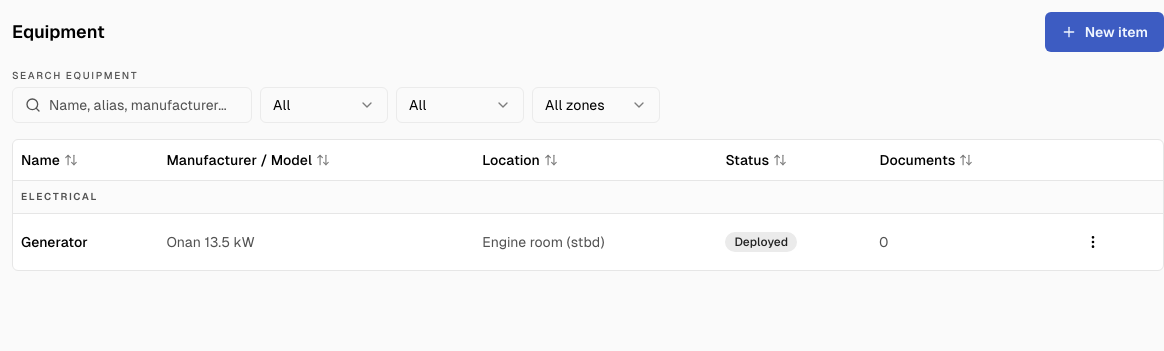
Test: EquipmentIndex › opens the editor from the row's own action menu, without double-firing the row click
Expected: the text "Generator" is shown, x1=21 y1=234 x2=88 y2=250
Click the button named "Actions for Generator".
click(1092, 242)  # box x1=1072 y1=222 x2=1112 y2=262
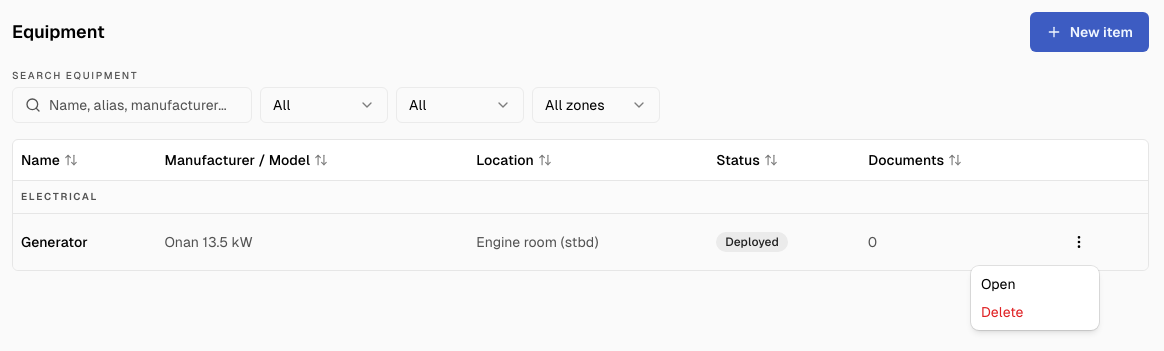
Click the menu item "Open".
click(998, 284)  # box x1=981 y1=276 x2=1016 y2=292
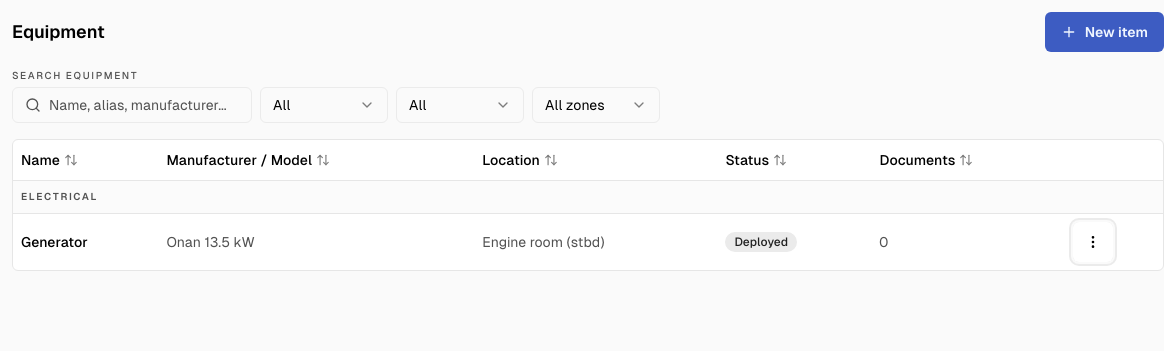
Expected: the menu is gone
